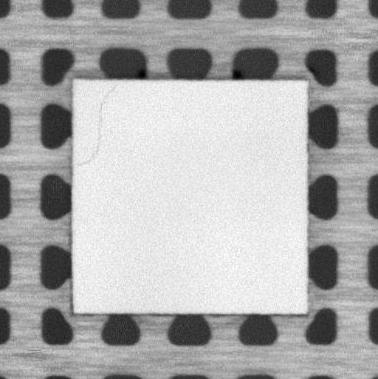DIE_CRACK: (79, 85, 117, 165)
